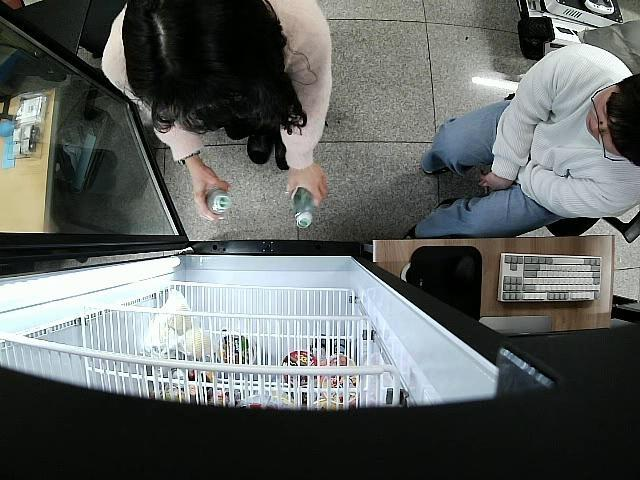18_trevi: (293, 188, 314, 228), (204, 188, 231, 214)
